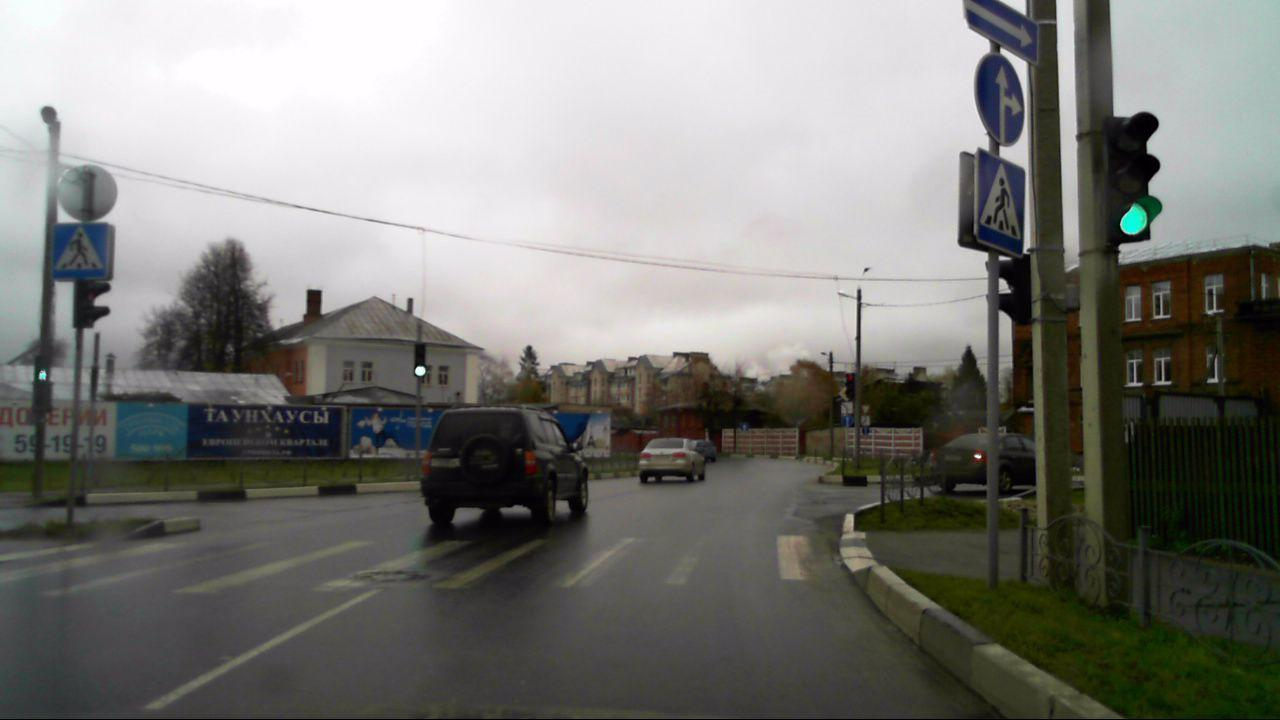4_1_4: (964, 50, 1029, 143)
5_19_1: (963, 149, 1029, 254)
5_19_2: (43, 216, 113, 281)
5_7_1: (964, 0, 1039, 64)
